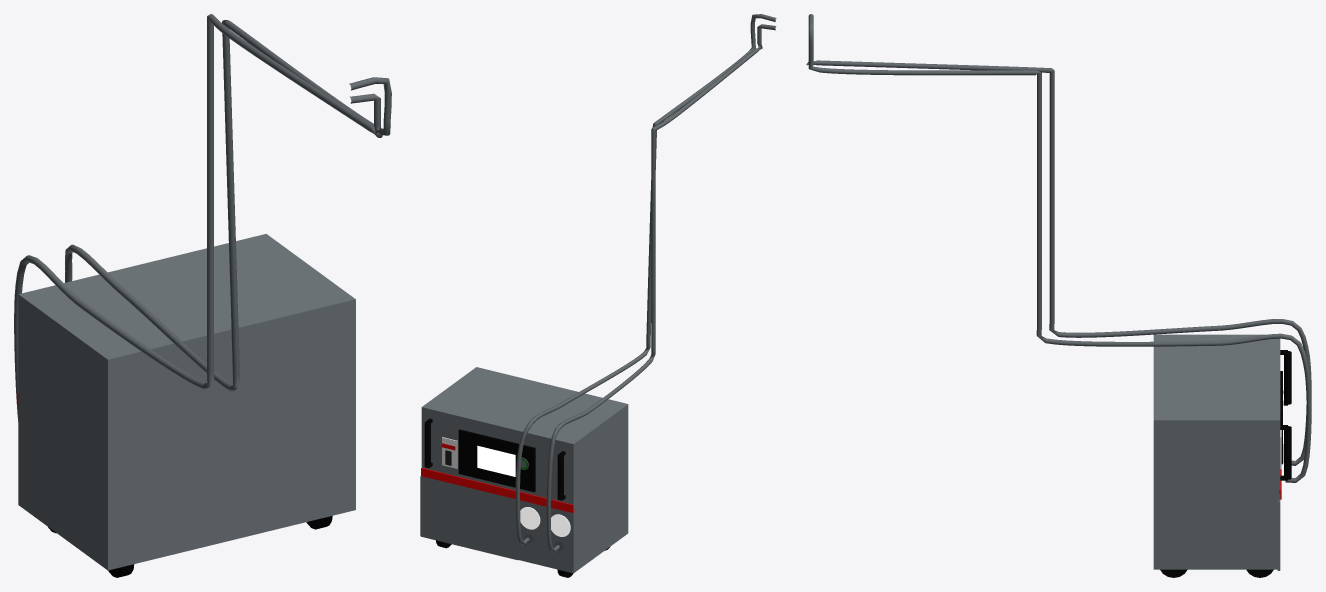
File: Compressor.glb
The picture shows the model from 3 angles, left to right: view 1: azimuth 30°, elevation 25°; view 2: azimuth 150°, elevation 25°; view 3: azimuth 270°, elevation 25°; orthographic projection. The views are drawn at different scales.
Size of the model in its own units: 8.08 by 21.12 by 19.93.
